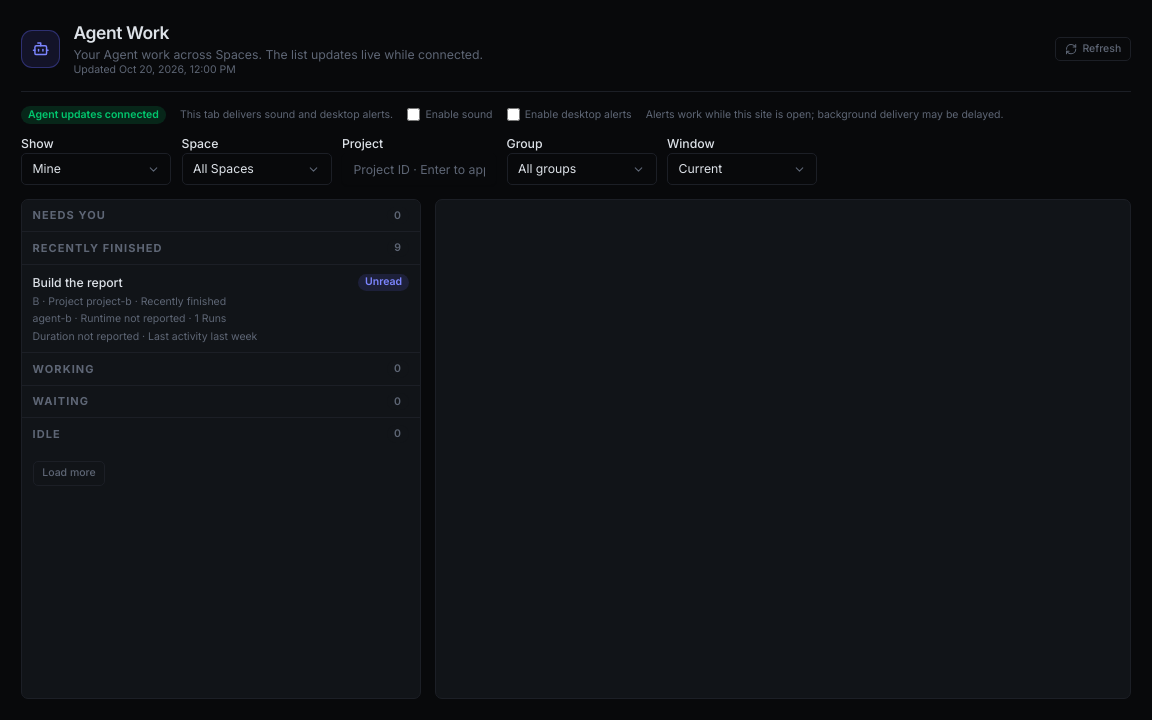
Test: Agent Work page › loads the server cursor and keeps complete totals
Click the button "Load more" at (69,473), box [32,461,105,486]
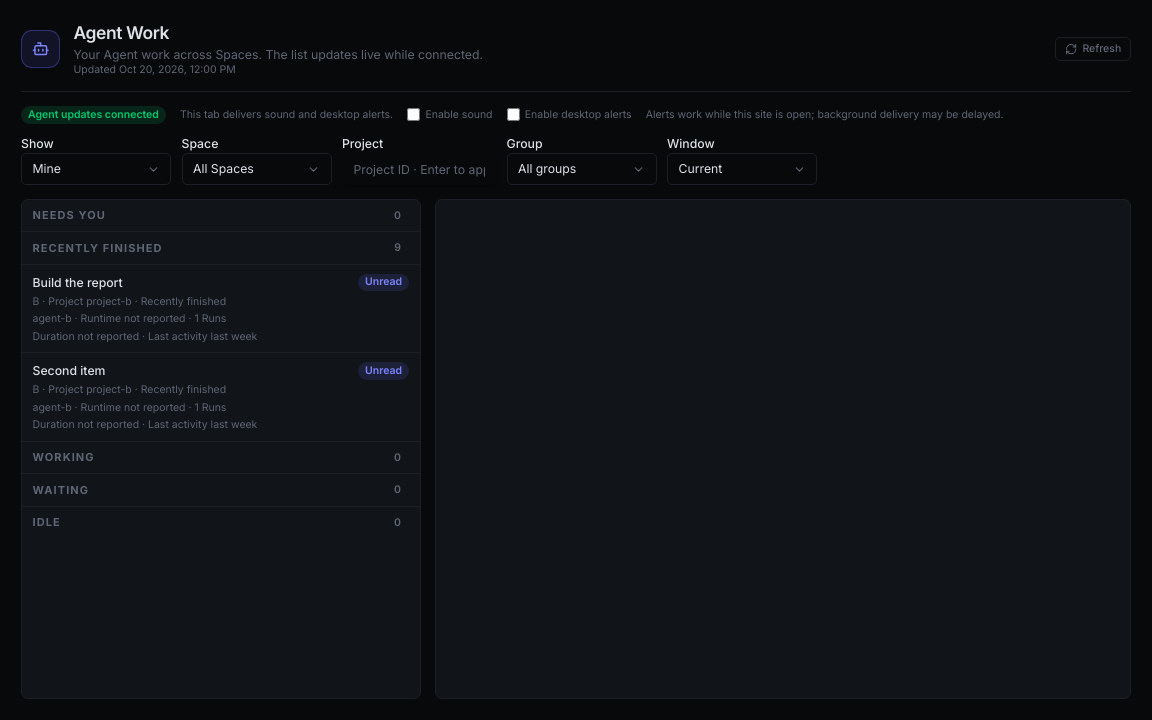
Expected: the button "Build the report" is shown, [22,264,420,352]
Result: the button "Second item" is shown at [22,352,420,441]
